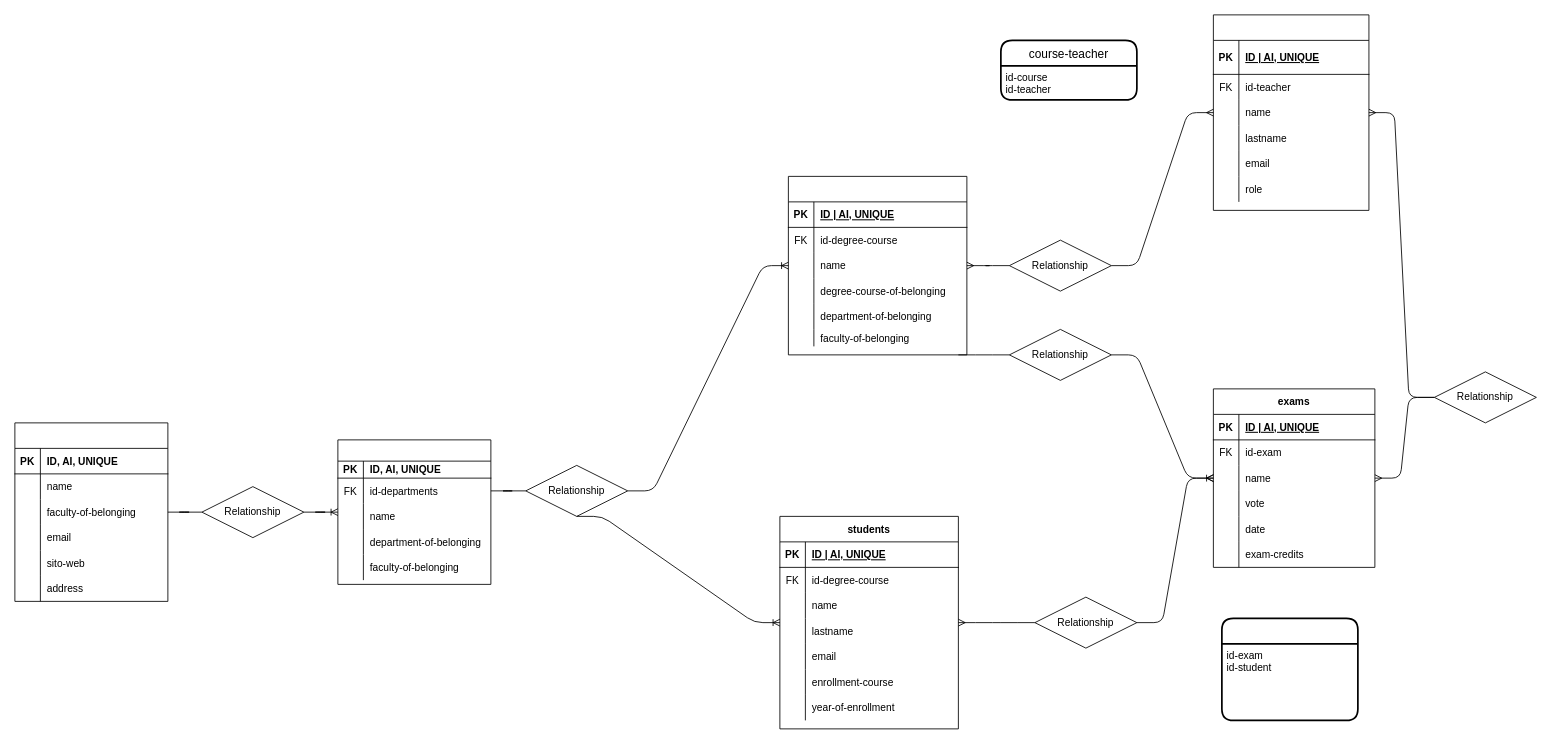
Image size: 1551x744. Some labels were removed from this diagram. Here are the shapes that lost their labels. From the top down, the box of each, then its label:
(1213, 14, 1369, 210): teachers
(788, 176, 967, 355): courses
(14, 422, 168, 601): departments
(337, 439, 491, 584): degree-courses
(1221, 617, 1358, 721): exam-student
